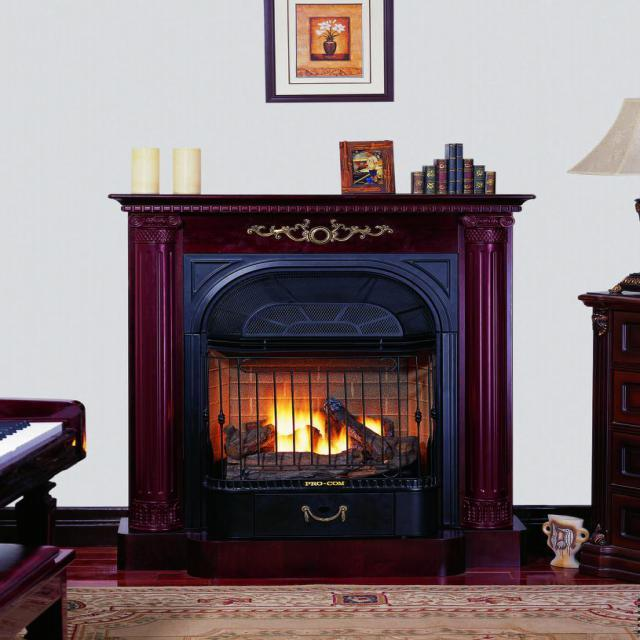Fire: (236, 367, 396, 462)
